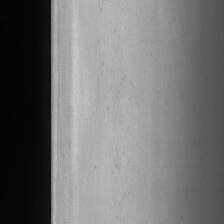silk_spot: (90, 4, 132, 194)
